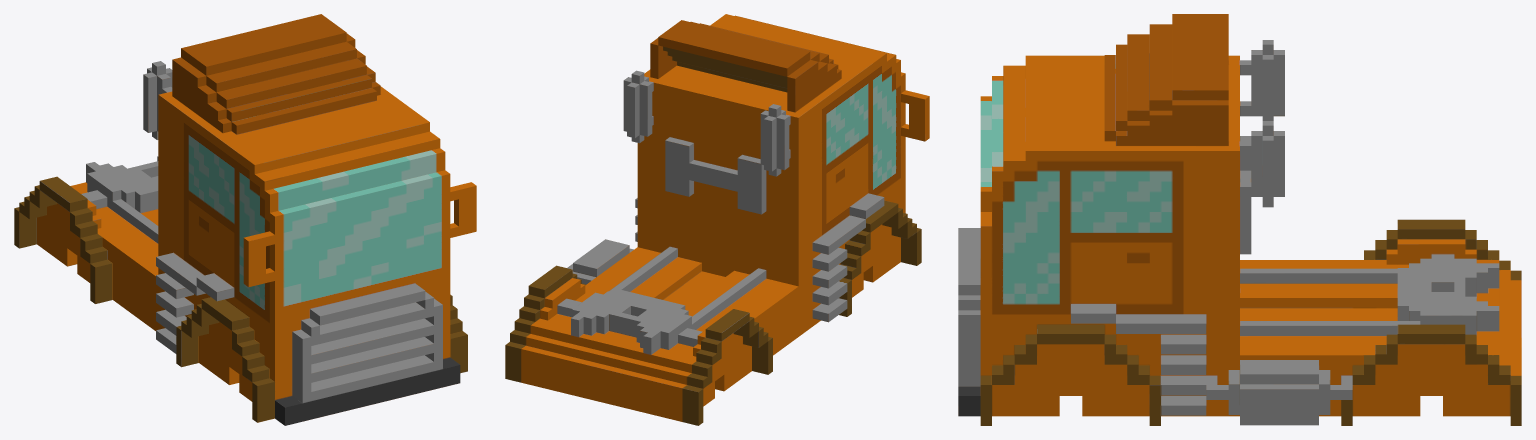
The model's file is Trailer_Var2_2.obj.
3 views of the same model, side by side, from view 1: azimuth 30°, elevation 25°; view 2: azimuth 150°, elevation 25°; view 3: azimuth 270°, elevation 25° (orthographic). The views are drawn at different scales.
Parts seen in each view (by area): view 1: Trailer_Var2_2_Trailer_Var2_2.001; view 2: Trailer_Var2_2_Trailer_Var2_2.001; view 3: Trailer_Var2_2_Trailer_Var2_2.001.
Part boxes in pixels (x1,y1,x2,y2): Trailer_Var2_2_Trailer_Var2_2.001: [14, 14, 476, 425]; Trailer_Var2_2_Trailer_Var2_2.001: [505, 14, 929, 425]; Trailer_Var2_2_Trailer_Var2_2.001: [958, 14, 1521, 425].
Size of the model in its own units: 2.8 by 3.1 by 5.
